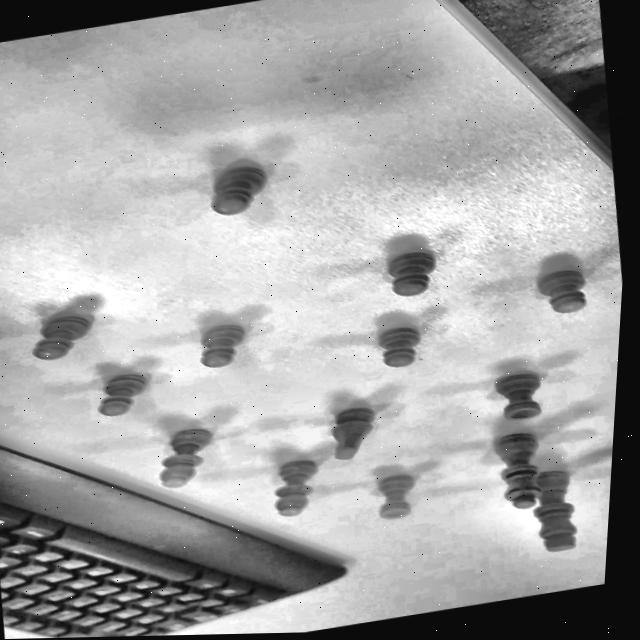white-bishop: (153, 426, 216, 488), (267, 458, 321, 517)
white-king: (525, 467, 583, 556)
white-knight: (328, 405, 379, 460)
white-pawn: (189, 150, 279, 228), (28, 311, 94, 361), (93, 370, 151, 420), (535, 267, 590, 318), (383, 248, 439, 298), (198, 322, 250, 370), (375, 326, 423, 370)
white-queen: (489, 430, 547, 510)
white-rook: (493, 370, 546, 423), (374, 473, 418, 520)
